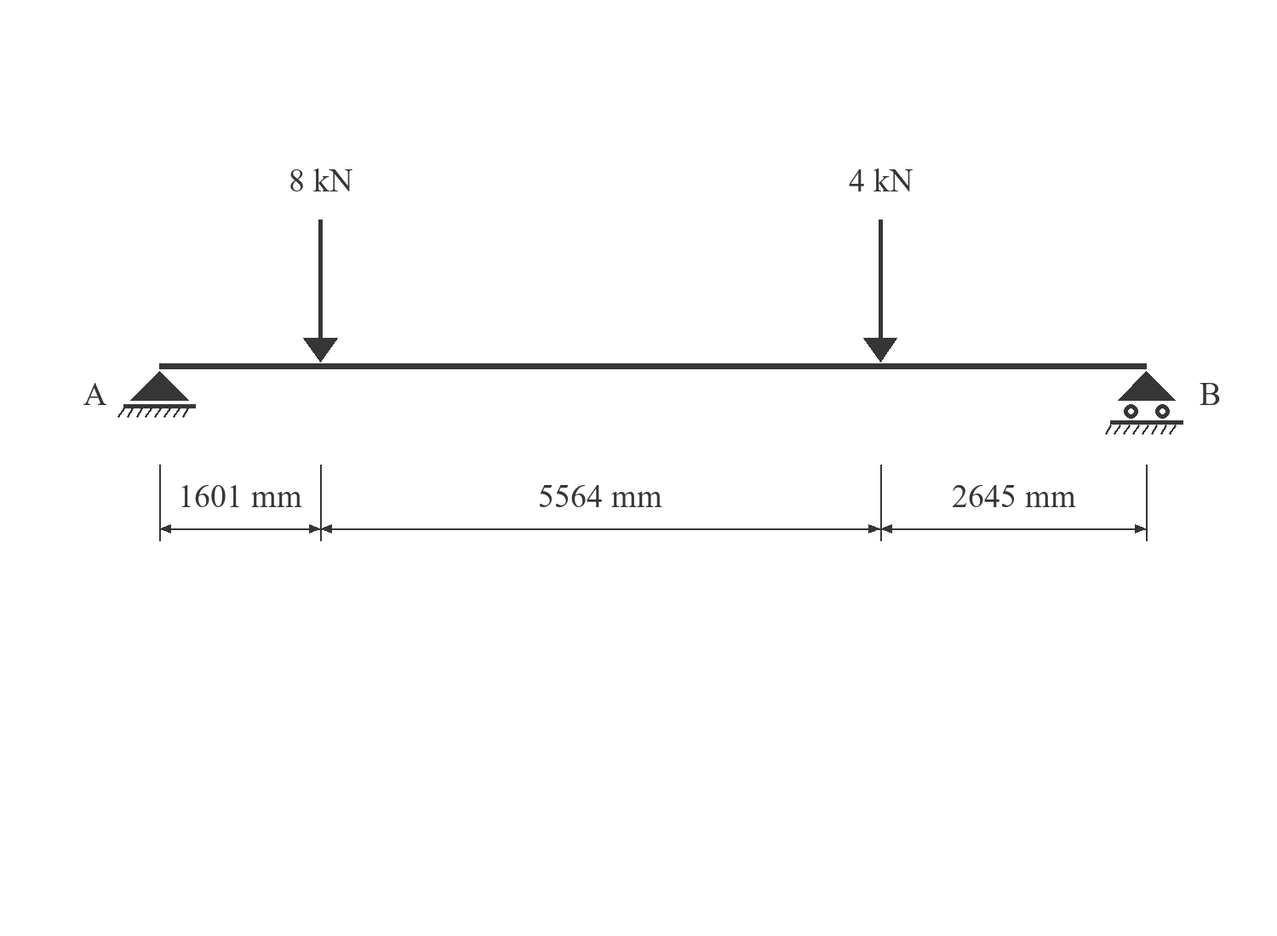pin_support: (117, 371, 196, 418)
point_load: (303, 220, 338, 362), (863, 220, 897, 362)
roller_support: (1105, 371, 1183, 435)
